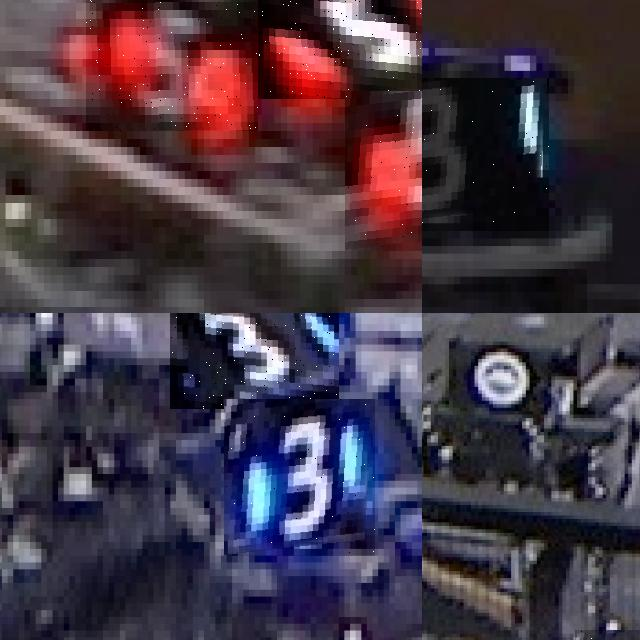B3: (224, 399, 375, 556), (422, 78, 549, 230), (170, 313, 338, 409)
R5: (85, 0, 258, 131), (255, 0, 422, 99), (345, 91, 422, 251)
